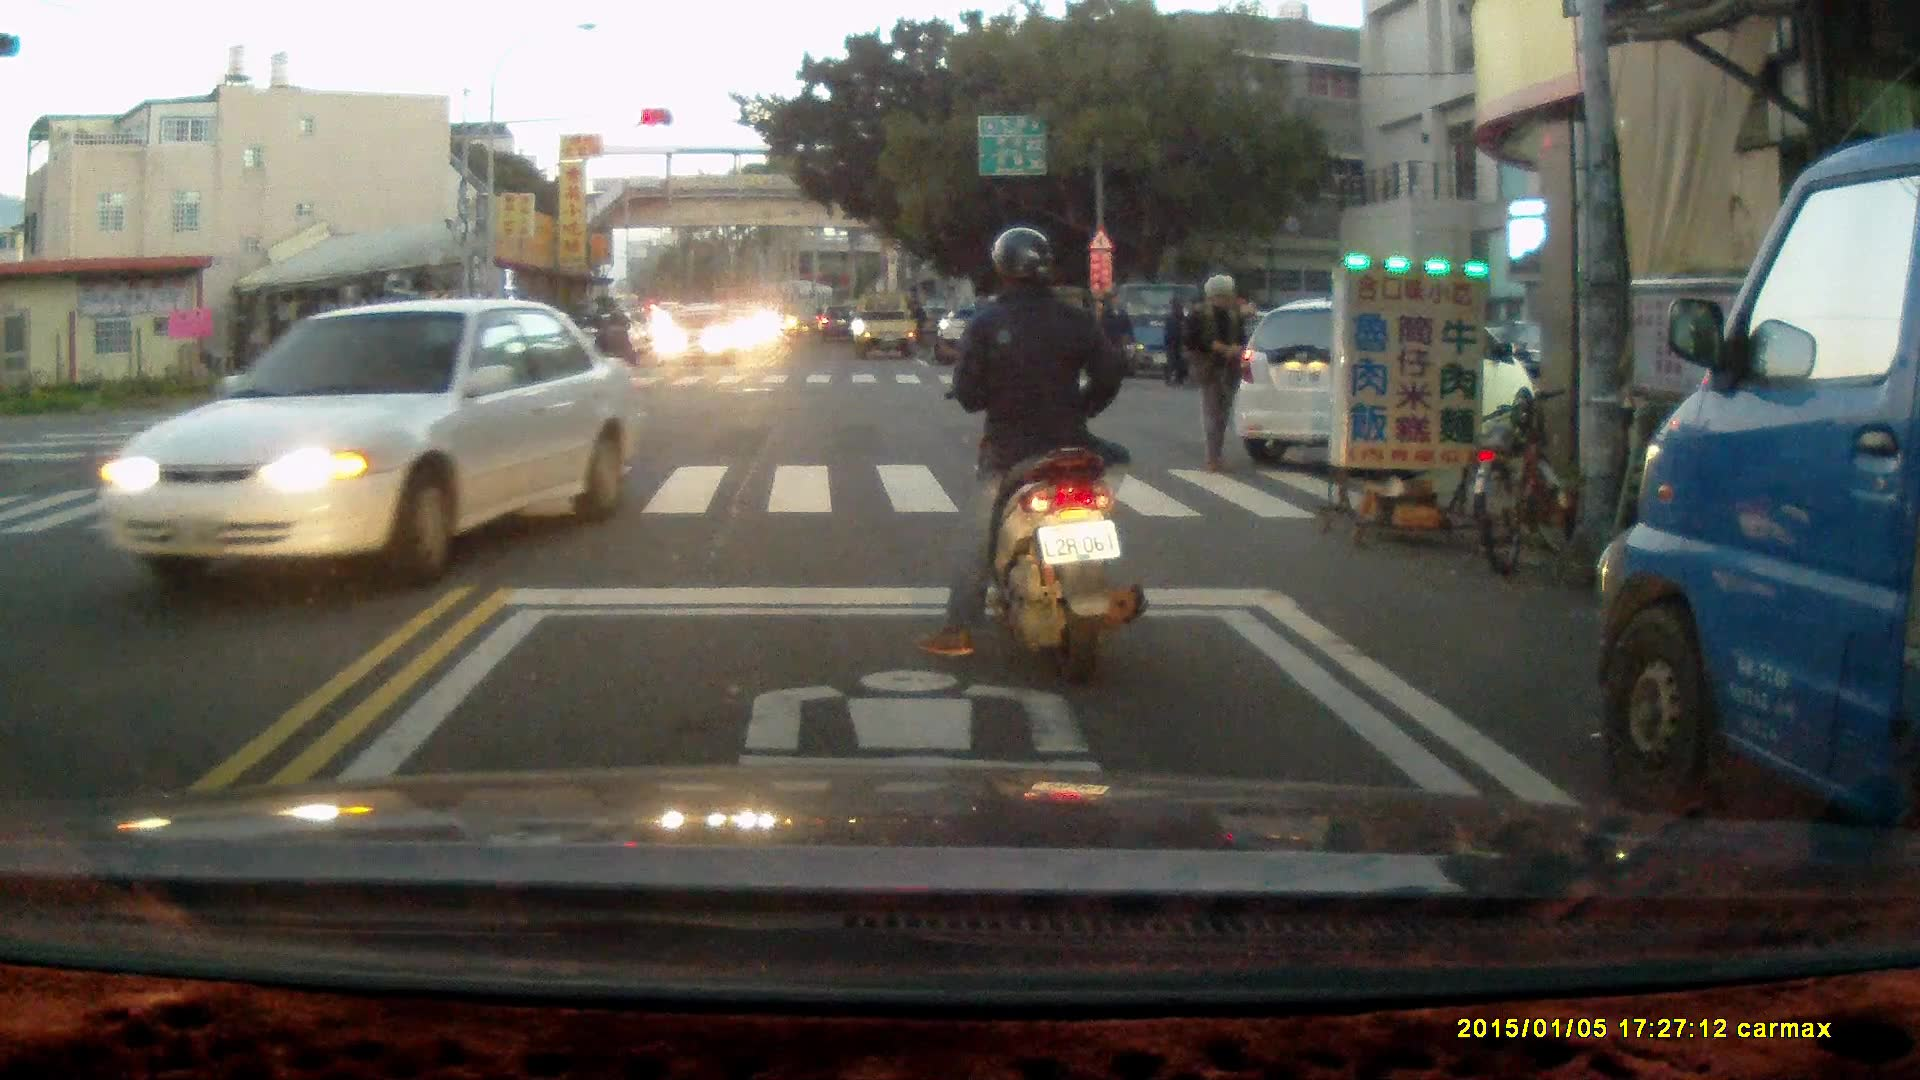pedestrian: (1185, 272, 1248, 473), (1096, 291, 1137, 390), (1161, 294, 1195, 391)
rider: (918, 228, 1149, 685), (593, 300, 631, 369), (577, 301, 612, 372)
vehicle: (1596, 120, 1920, 901), (84, 295, 645, 588), (1236, 303, 1533, 462), (658, 300, 739, 372), (852, 292, 921, 362)
